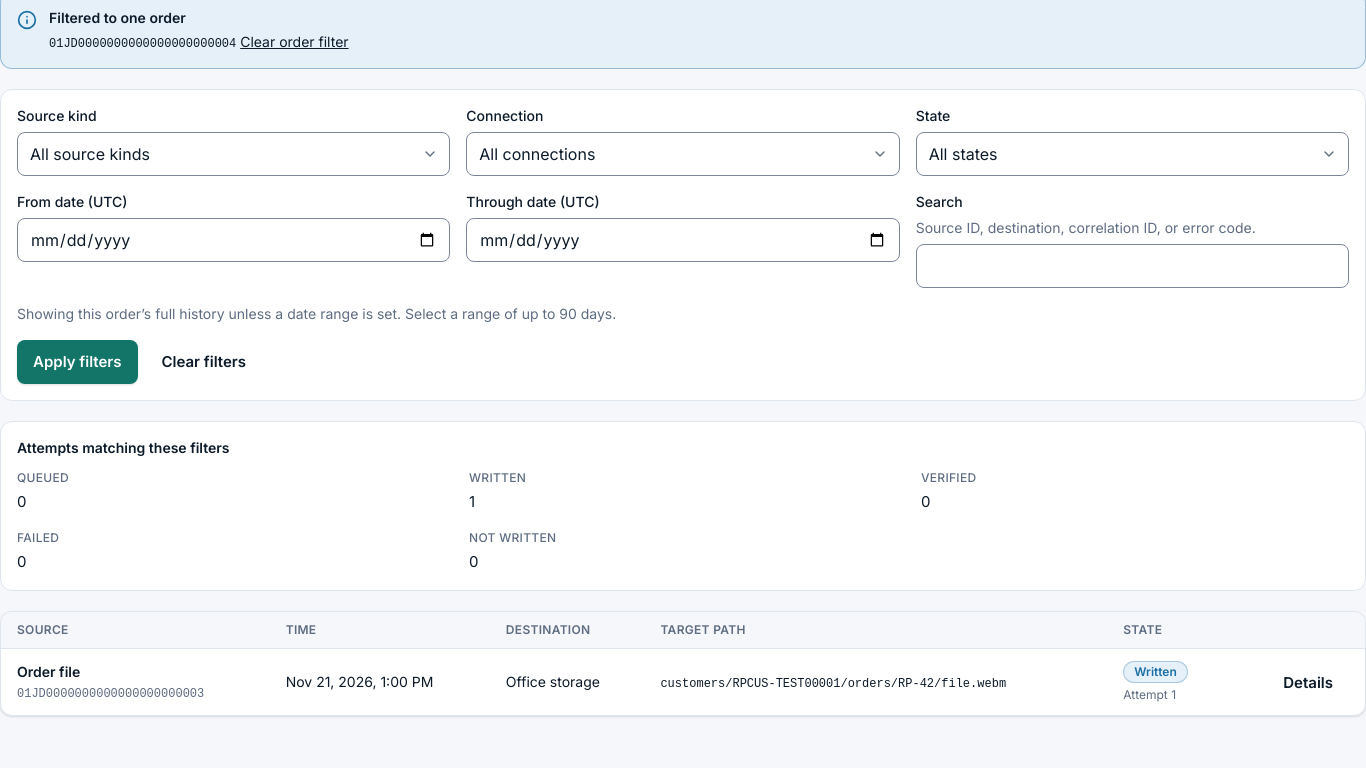
applies the order deep-link scope and exposes the logged target path in the table and details
(page scrolled)
Expected: the text "customers/RPCUS-TEST00001/orders/RP-42/file.webm" is shown, [660, 677, 1006, 691]
Click the button with aria-label "Details for Order file copy attempt".
click(1308, 682)  # box [1267, 660, 1349, 704]
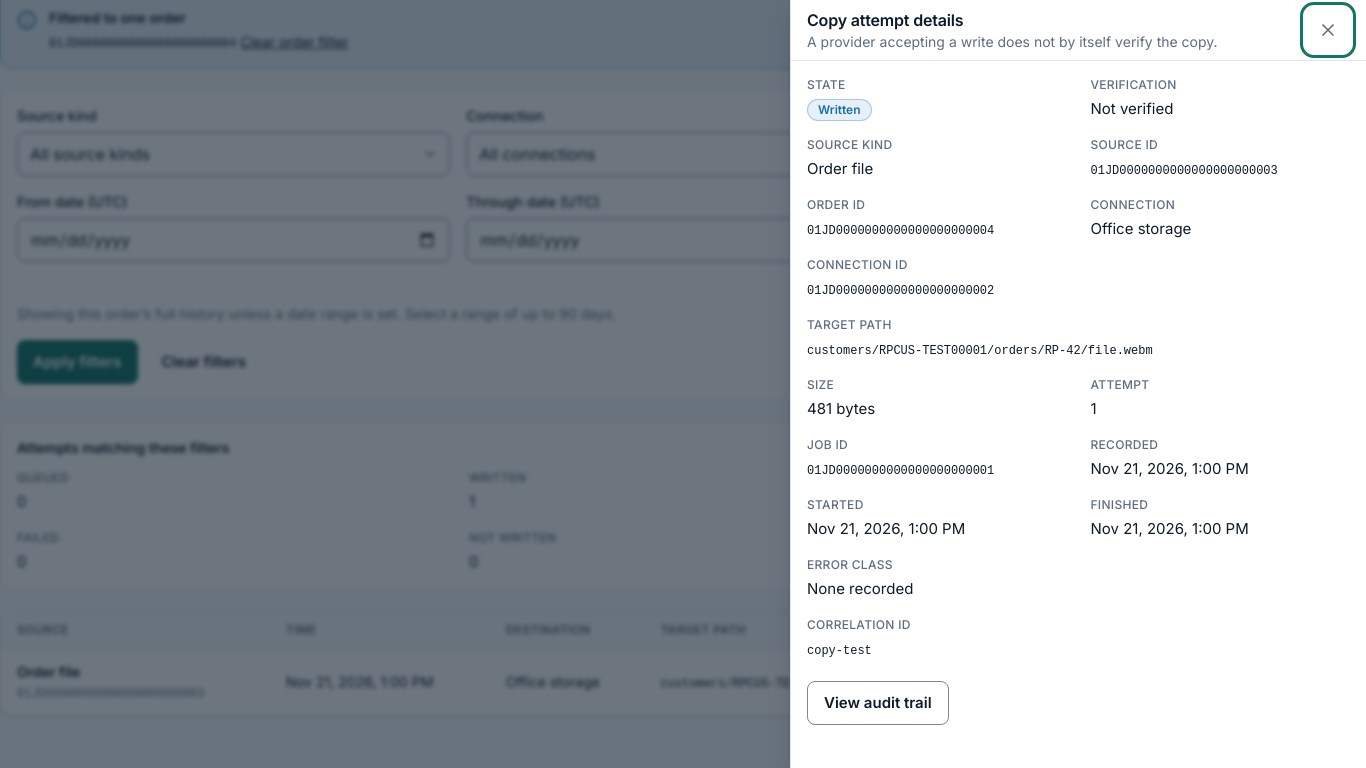
Expected: the text "customers/RPCUS-TEST00001/orders/RP-42/file.webm" is shown, [807, 344, 1153, 358]
